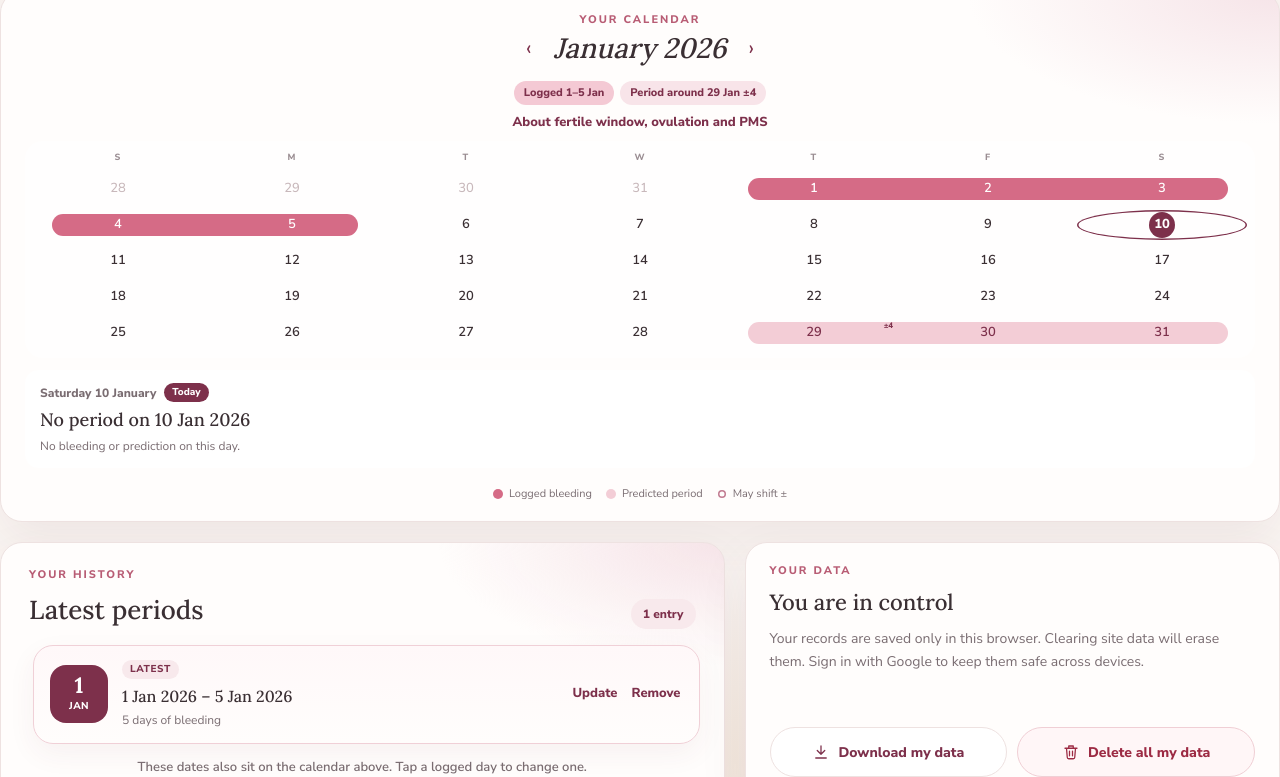
TrackerApp as a guest › updates a period from the history list
This screenshot has width=1280, height=777.
(page scrolled)
Click the button with aria-label "Update period from 1 Jan 2026" at x=595, y=694, box [570,680,620,708]
(page scrolled)
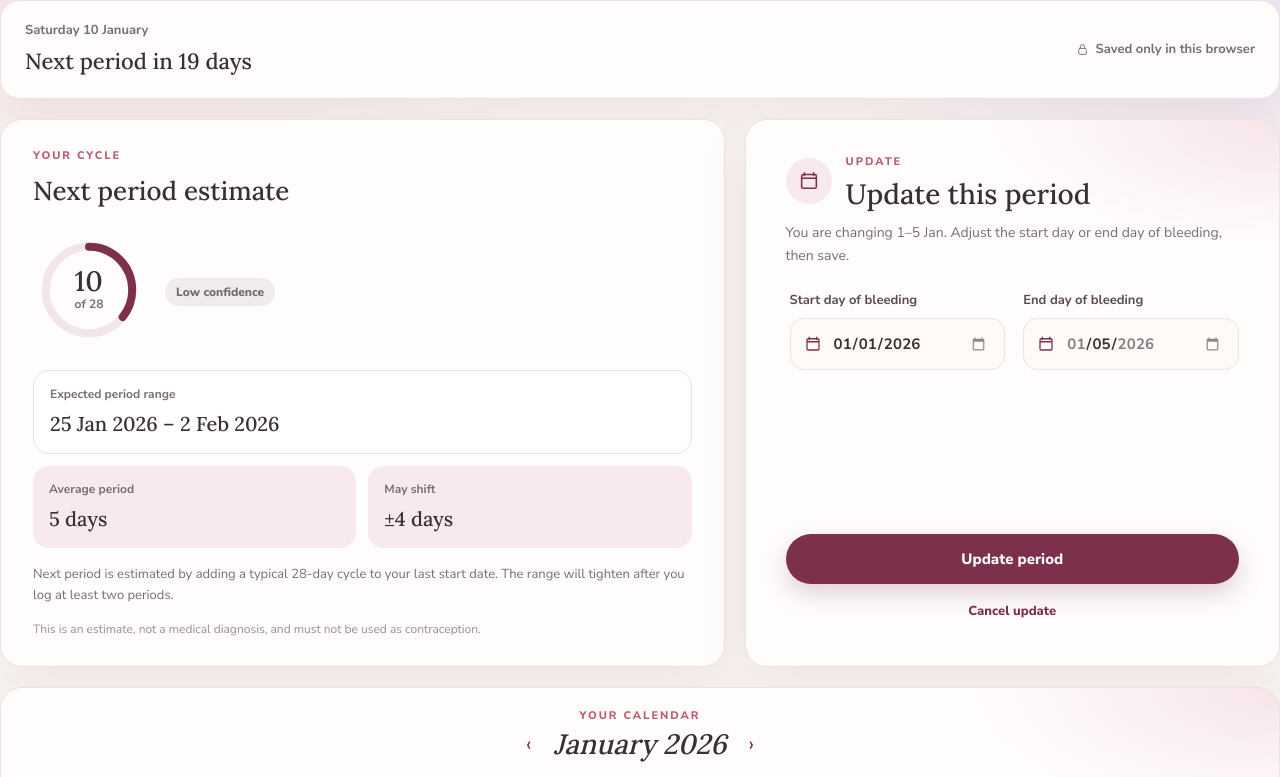
Now the heading "Update this period" is shown, box [846,172,1090,214]
Now the text "You are changing 1–5 Jan" is shown, box [786,222,1222,265]
Now the date field labelled "Start day of bleeding" holds "2026-01-01", box [790,318,1005,370]
Type "2026-01-06" into the date field labelled "End day of bleeding" at x=1131, y=344, box [1023,318,1239,370]
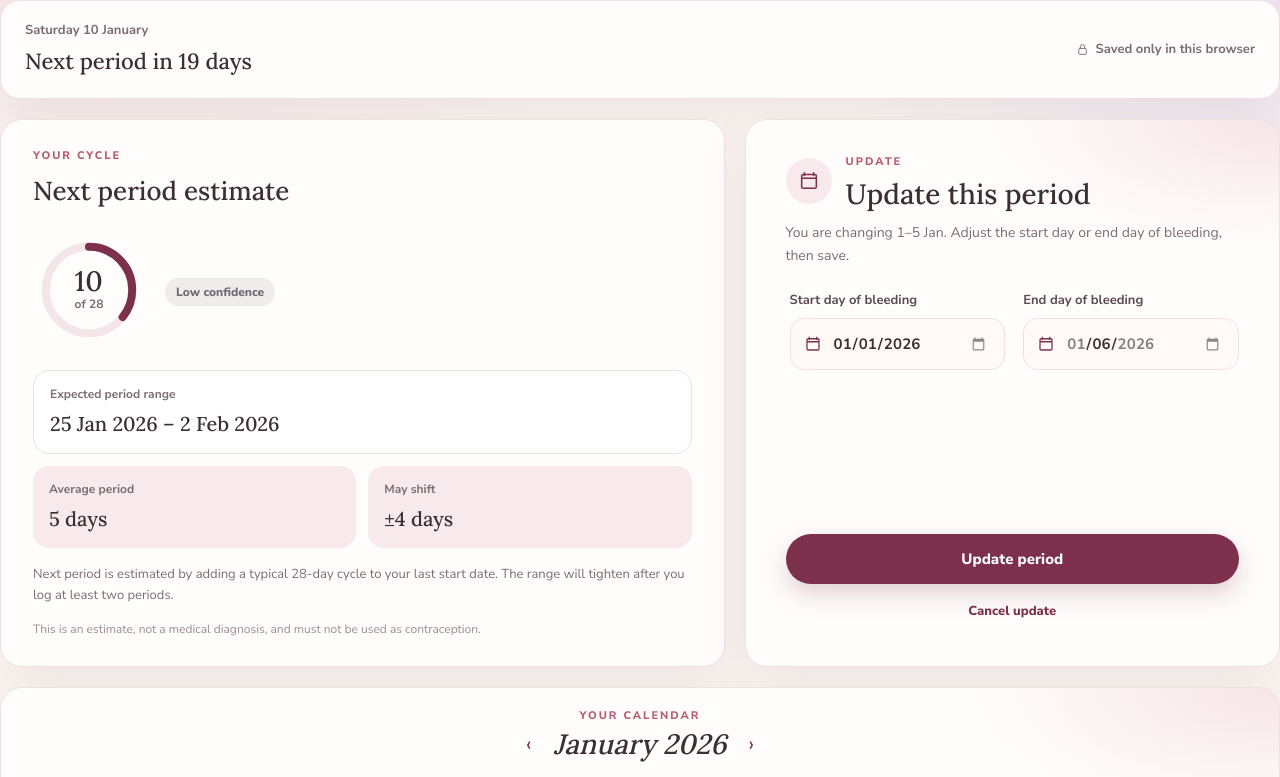
Click the button "Update period" at x=1012, y=559, box [786,534,1239,584]
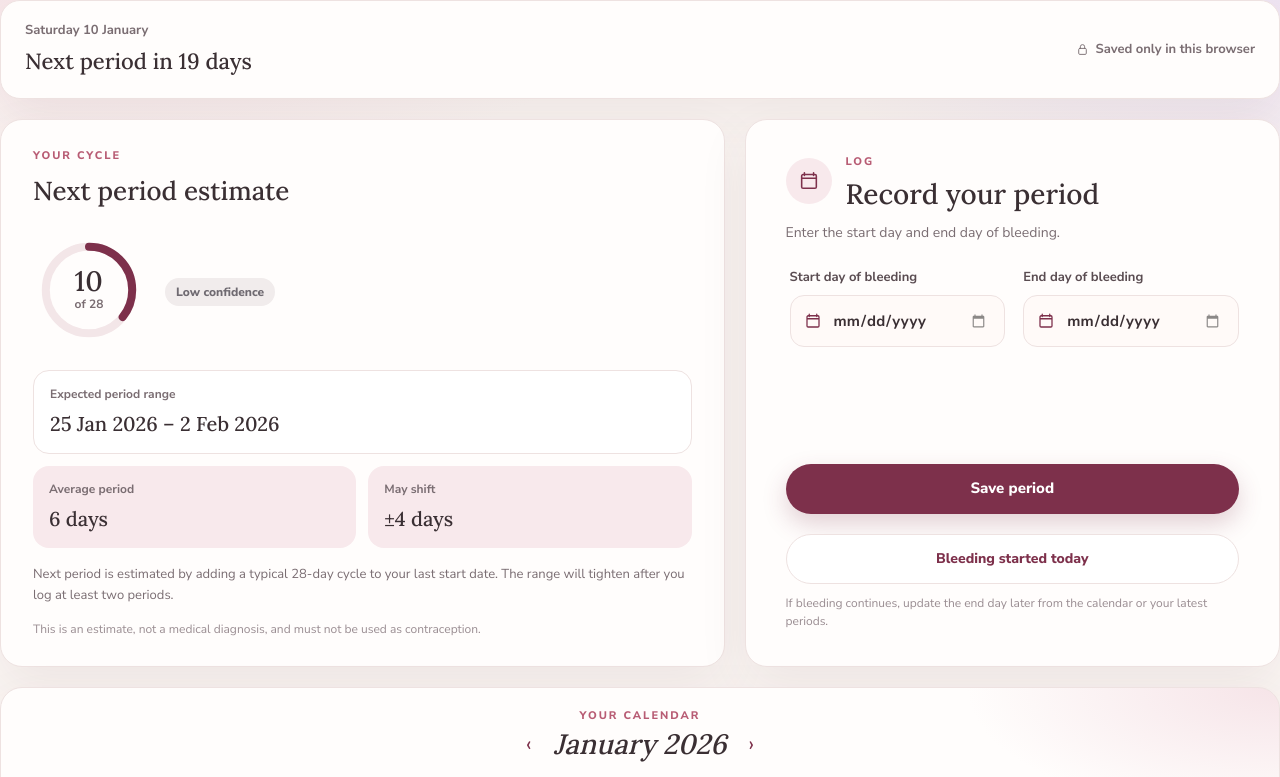
Now the heading "Record your period" is shown, box [846,172,1099,214]
